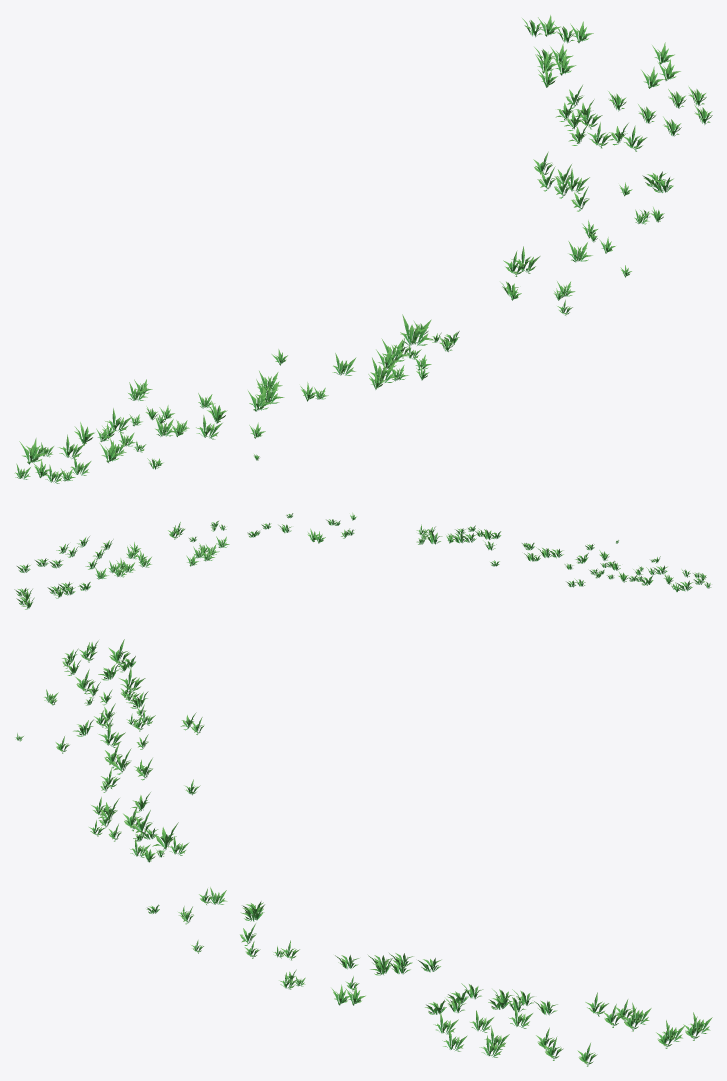
Rendered from Area_12_62.fbx.
3 renders of one model, top to bottom at view 1: azimuth 30°, elevation 25°; view 2: azimuth 150°, elevation 25°; view 3: azimuth 270°, elevation 25°, orthographic. The views are drawn at different scales.
Parts seen in each view (by area): view 1: Area_12_62; view 2: Area_12_62; view 3: Area_12_62.
Part boxes in pixels (x1,y1,x2,y2): Area_12_62: [14, 15, 712, 483]; Area_12_62: [14, 512, 711, 609]; Area_12_62: [15, 639, 712, 1066].
Size of the model in its own units: 4515 by 131 by 3171.
